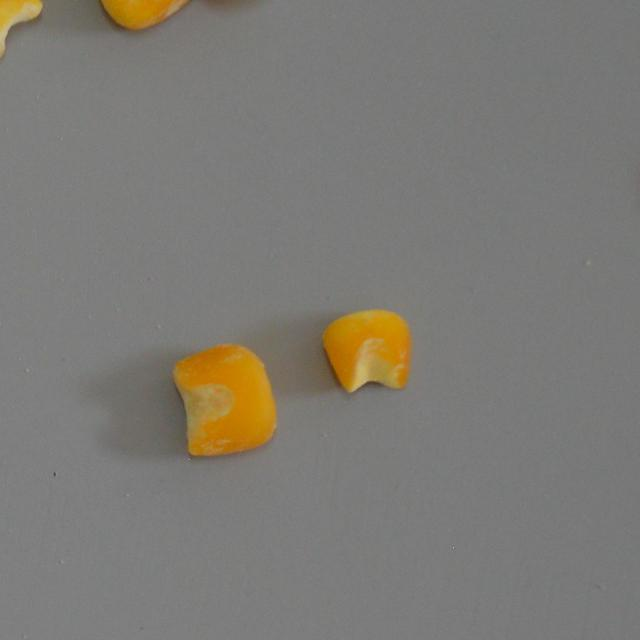dañado: (172, 339, 283, 464), (0, 0, 48, 66)
pelicula: (319, 306, 413, 398), (86, 0, 197, 34)
